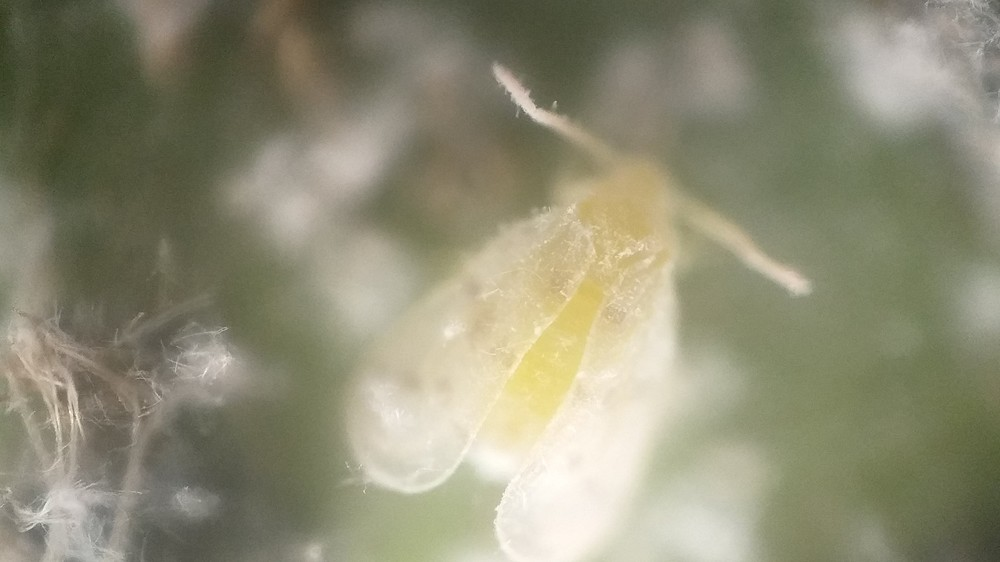Mosca Blanca: (317, 54, 821, 558)
